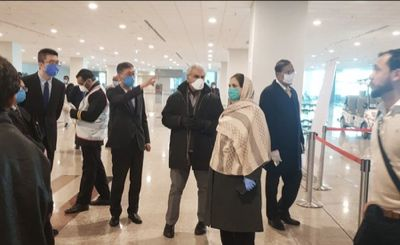no-mask: (368, 47, 400, 101)
with-mask: (35, 49, 64, 83), (270, 58, 298, 91), (114, 59, 141, 91), (224, 71, 248, 103), (184, 63, 208, 94), (74, 69, 94, 95)
